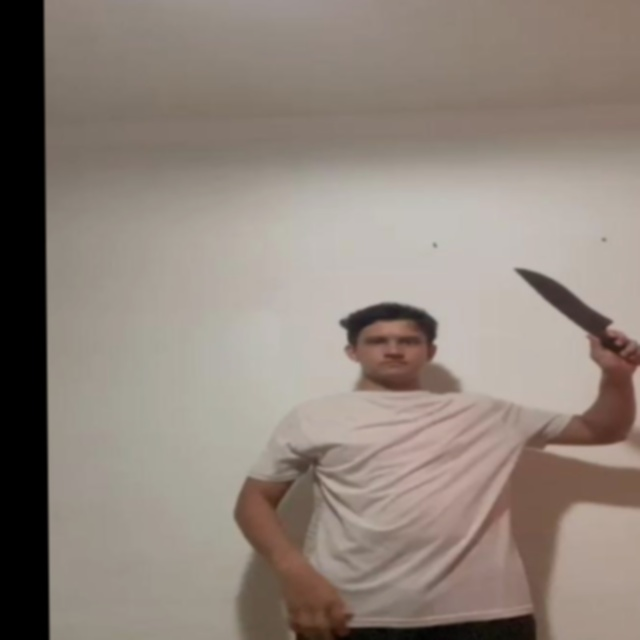Sharp-Object: (510, 266, 613, 329)
